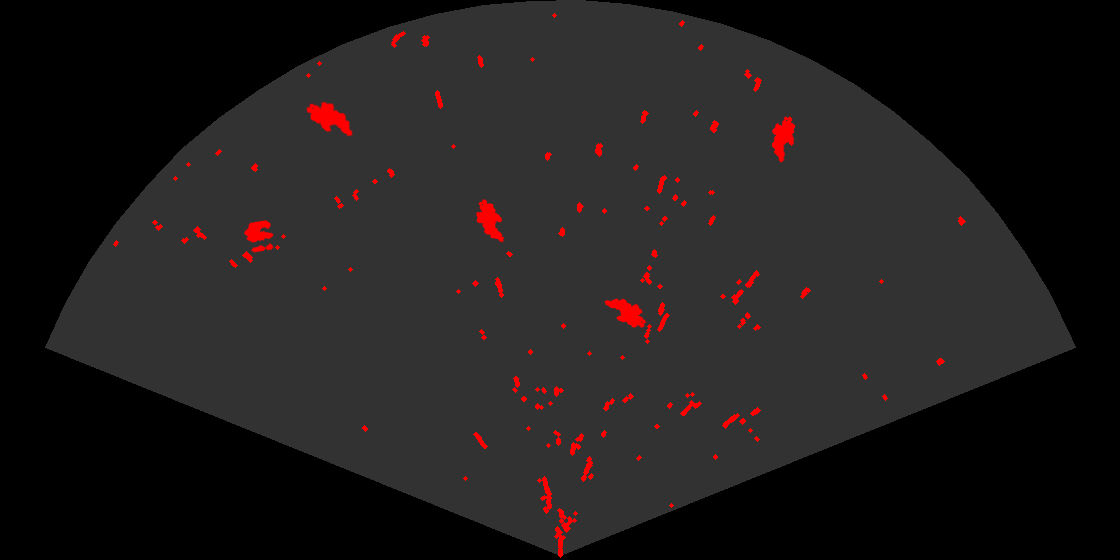AUV: (305, 100, 354, 138), (603, 297, 648, 329), (475, 198, 506, 244), (770, 115, 797, 164)
ball: (243, 219, 275, 254)
